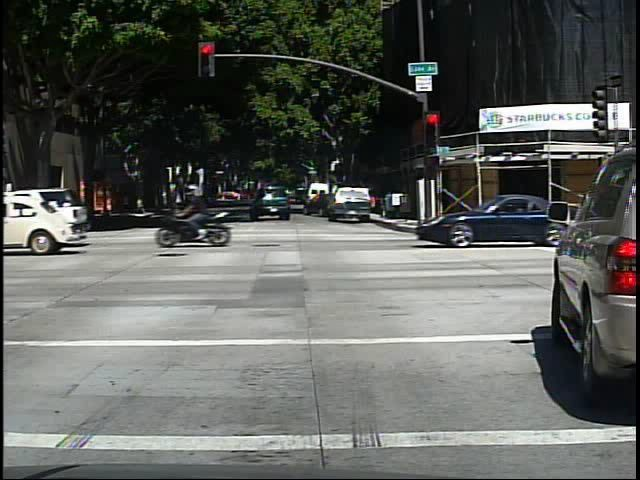person: (193, 180, 232, 241), (62, 191, 73, 223)
